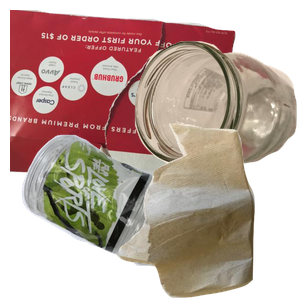glass: (132, 38, 300, 199)
paper: (10, 10, 238, 190)
plastic: (19, 132, 242, 300)
trash: (114, 121, 300, 300)
